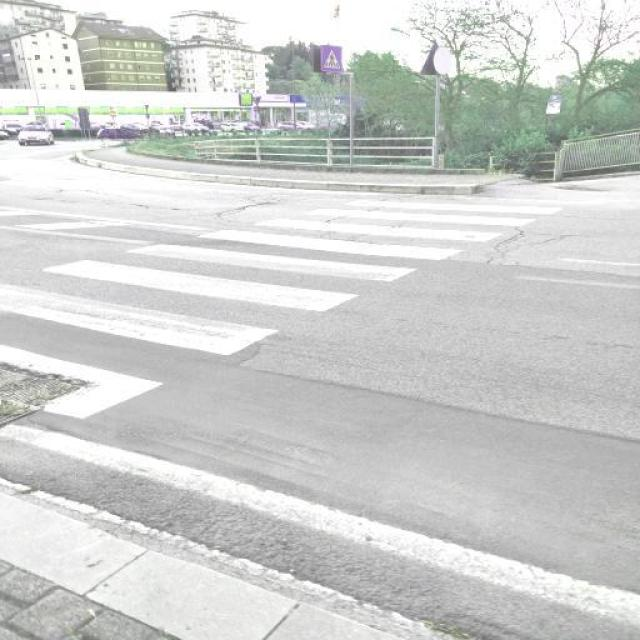intact_crosswalk: (0, 198, 563, 419)
